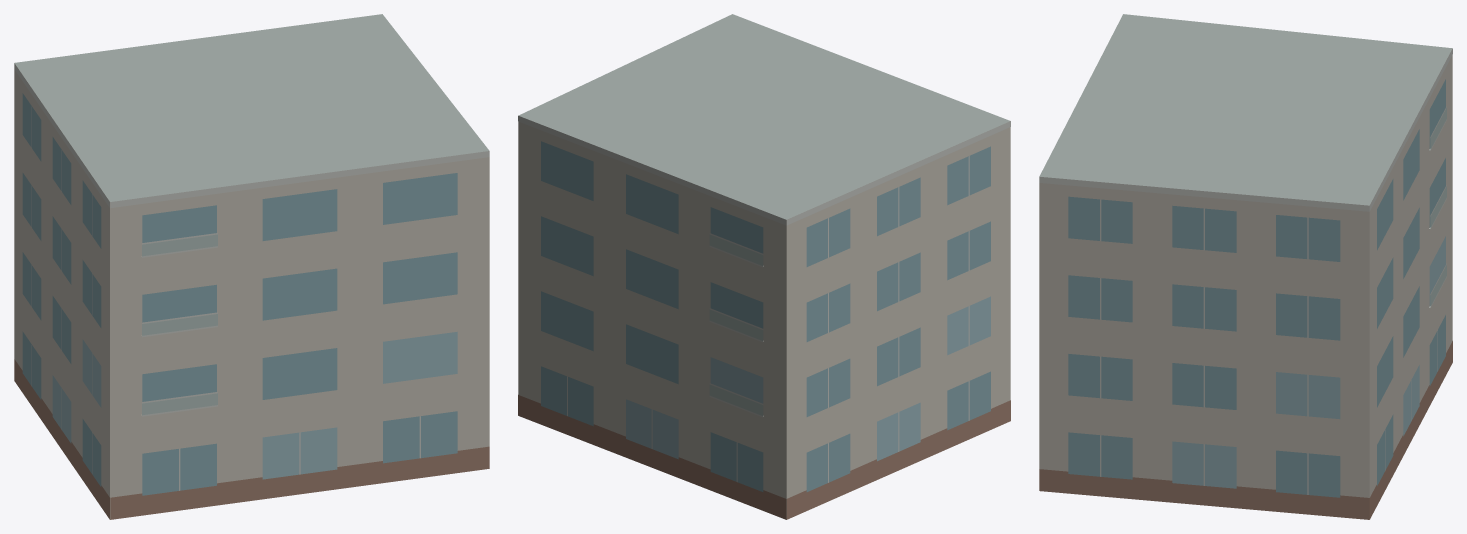
File: survey-upis-32663583.glb
3 renders of one model, left to right at view 1: azimuth 30°, elevation 25°; view 2: azimuth 150°, elevation 25°; view 3: azimuth 270°, elevation 25°, orthographic. The views are drawn at different scales.
Visible parts, largest first — view 1: survey-upis-32663583.tmp; view 2: survey-upis-32663583.tmp; view 3: survey-upis-32663583.tmp.
Boxes of the visible parts, x1,y1,x2,y2 form: survey-upis-32663583.tmp: [14, 14, 489, 519]; survey-upis-32663583.tmp: [518, 14, 1010, 519]; survey-upis-32663583.tmp: [1039, 14, 1452, 519].
Size of the model in its own units: 16.35 by 12.5 by 14.92.
